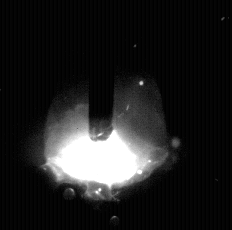arame: (90, 0, 115, 140)
poca: (44, 0, 169, 230)
